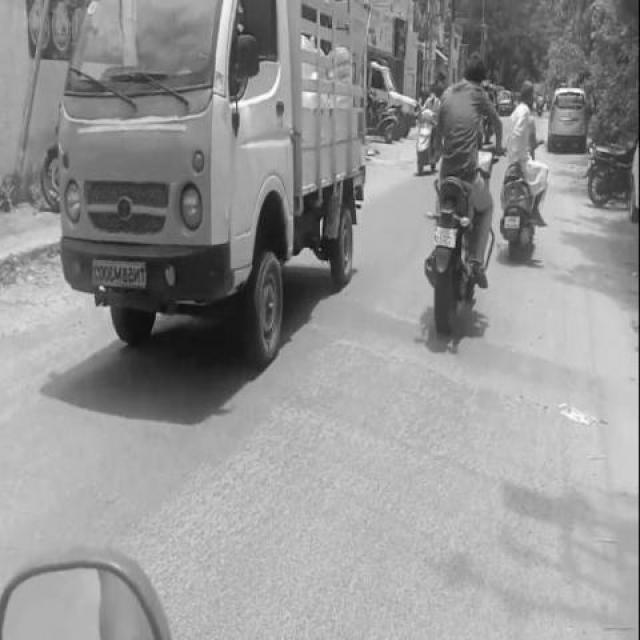Unmarked Bump: (452, 332, 626, 420), (286, 288, 434, 358)
